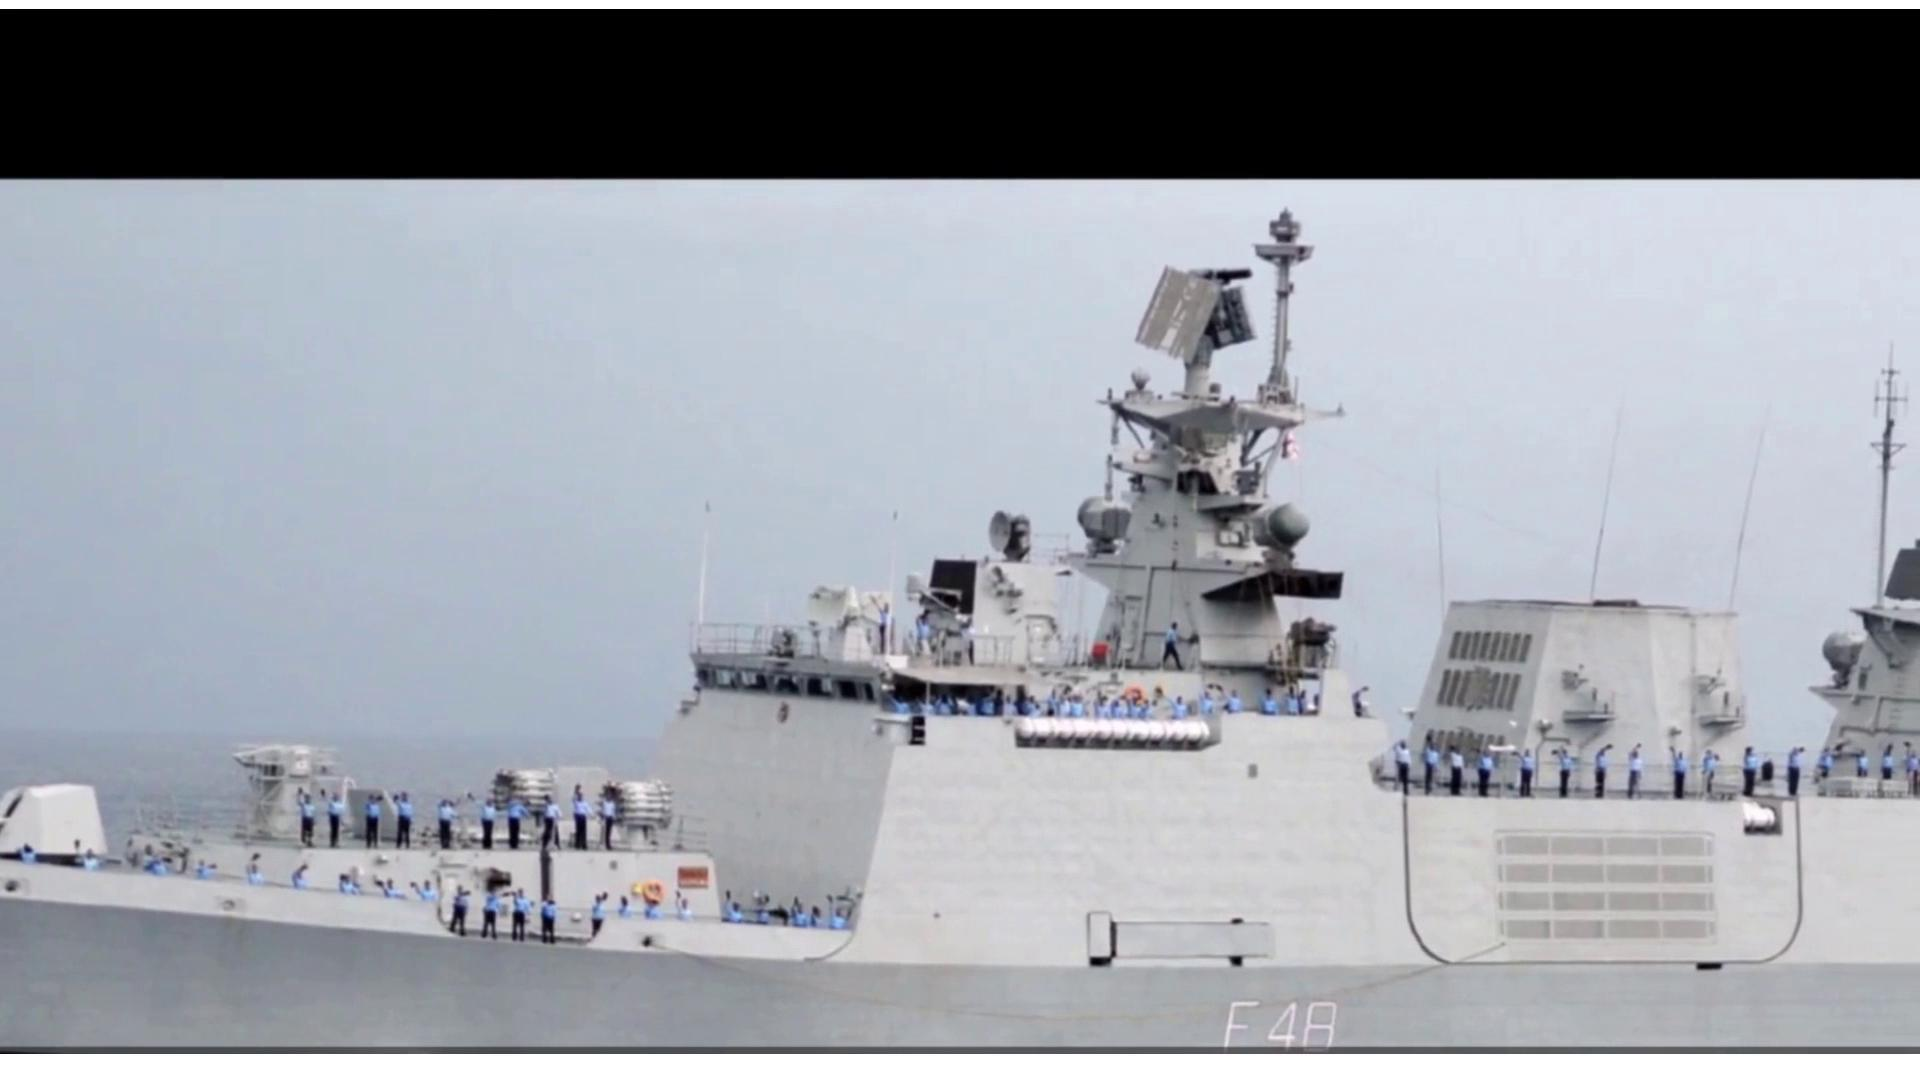OCR: (1208, 989, 1366, 1051)
